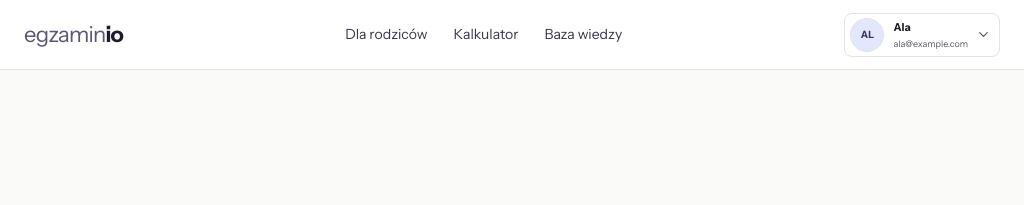
Scenario: SiteHeader session state › shows the account dropdown and panel link for an authenticated user
Step 1. Click the button with aria-label "Menu konta: Ala" → [922, 34], box x1=844 y1=12 x2=1000 y2=56
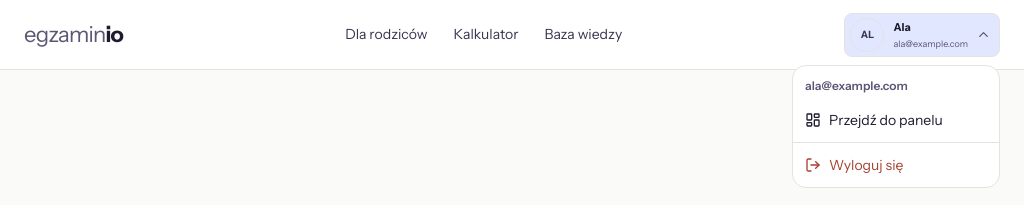
Expected: the text "ala@example.com" in the row of "Baza wiedzy" is shown, x1=894 y1=38 x2=968 y2=48
Expected: the menu item "Wyloguj się" is shown, x1=805 y1=156 x2=903 y2=174
